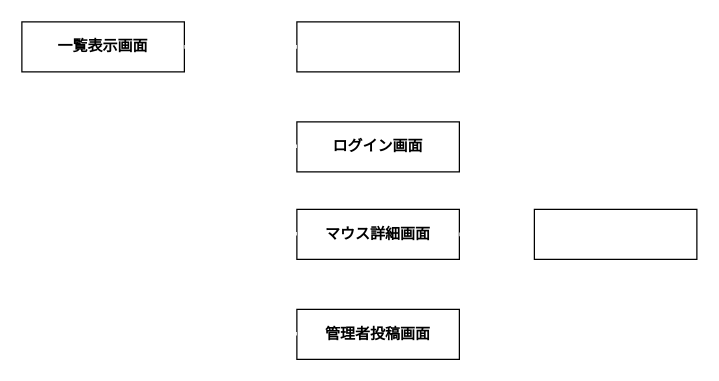
Some shapes in this 719 by 381 pixel diagram are drawn without their labels. The centre of each missing label's shape, as x and y in pixels:
"マウス詳細編集画面" goes at point 615,233.
"ユーザー登録画面" goes at point 377,46.
